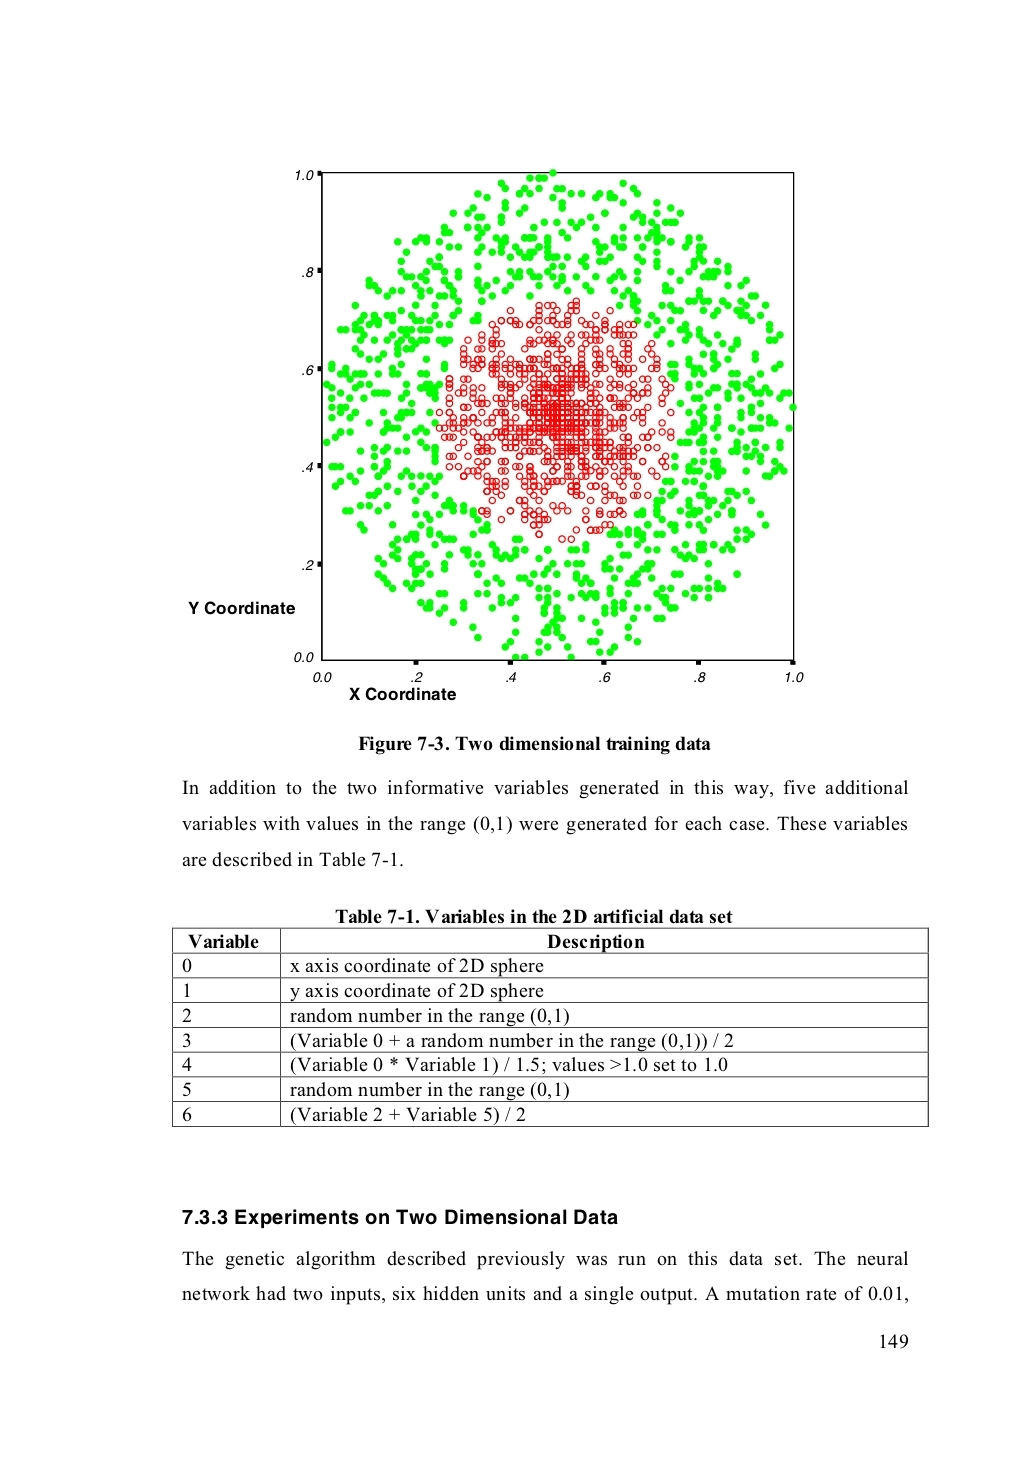Table: (172, 927, 928, 1125)
figure: (187, 168, 803, 700)
